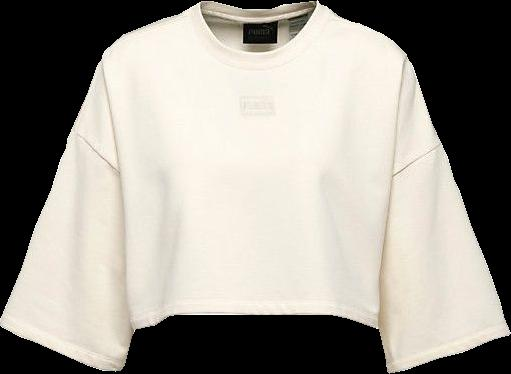Bodice: (101, 1, 408, 329)
Neckline: (196, 1, 320, 57)
Sleeve: (0, 59, 137, 370), (375, 60, 510, 372)
Sleeveline: (99, 59, 118, 170), (72, 128, 118, 172), (394, 59, 409, 175), (393, 140, 442, 173)
Waistline: (130, 310, 377, 330)
